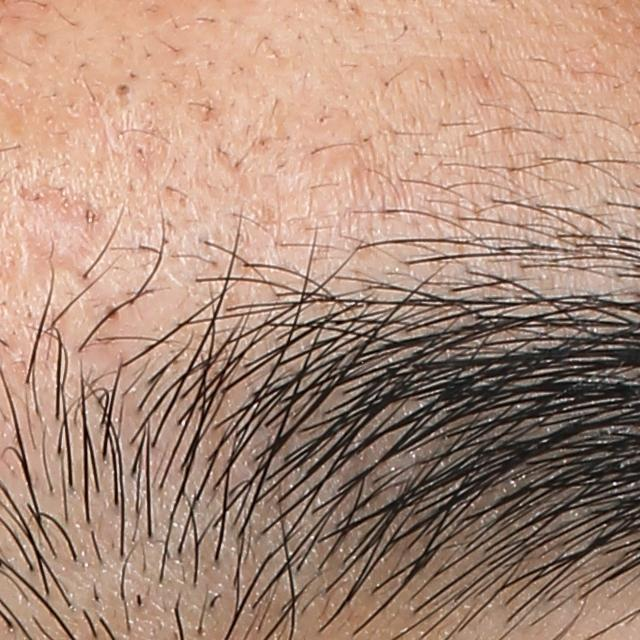atrophic_scar: (8, 170, 112, 303)
comedo: (320, 151, 363, 186), (104, 74, 144, 105)
